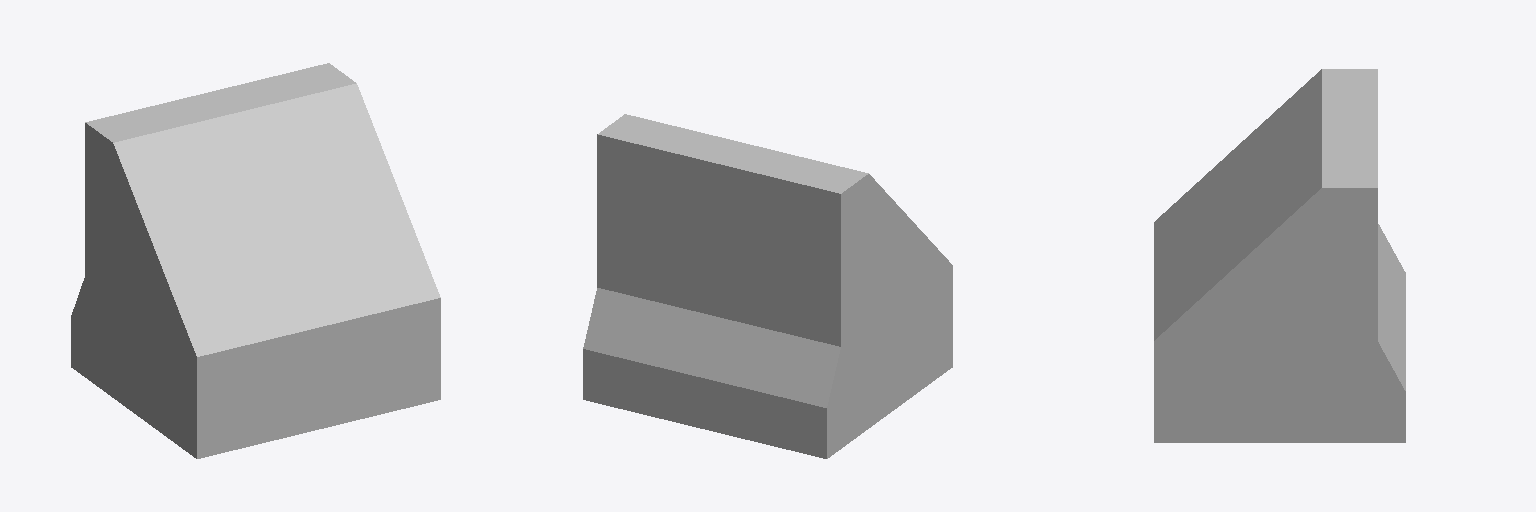
The model's file is Scrapper_Col.obj.
3 views of the same model, side by side, from view 1: azimuth 30°, elevation 25°; view 2: azimuth 150°, elevation 25°; view 3: azimuth 270°, elevation 25° (orthographic).
Parts seen in each view (by area): view 1: Cube_Cube.002; view 2: Cube_Cube.002; view 3: Cube_Cube.002.
Part boxes in pixels (left/top/right/bottom): Cube_Cube.002: left=71, top=63, right=440, bottom=458; Cube_Cube.002: left=583, top=114, right=952, bottom=458; Cube_Cube.002: left=1154, top=69, right=1405, bottom=442.
Size of the model in its own units: 5 by 5 by 4.47.